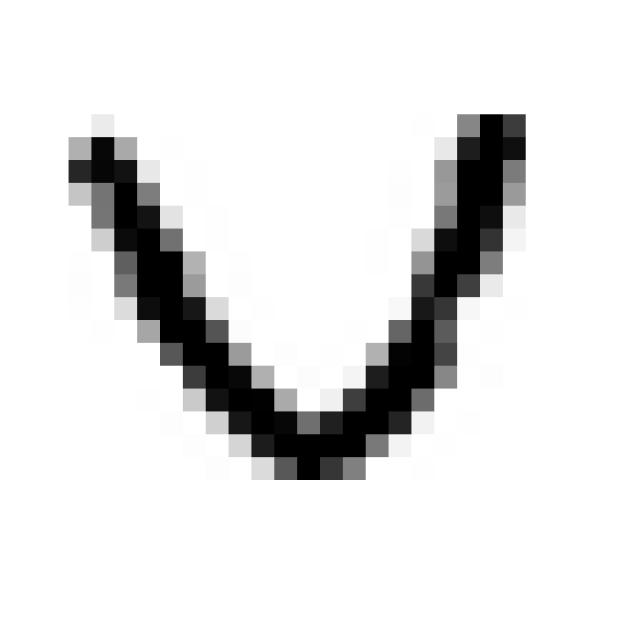7 -seven-: (48, 93, 552, 496)
